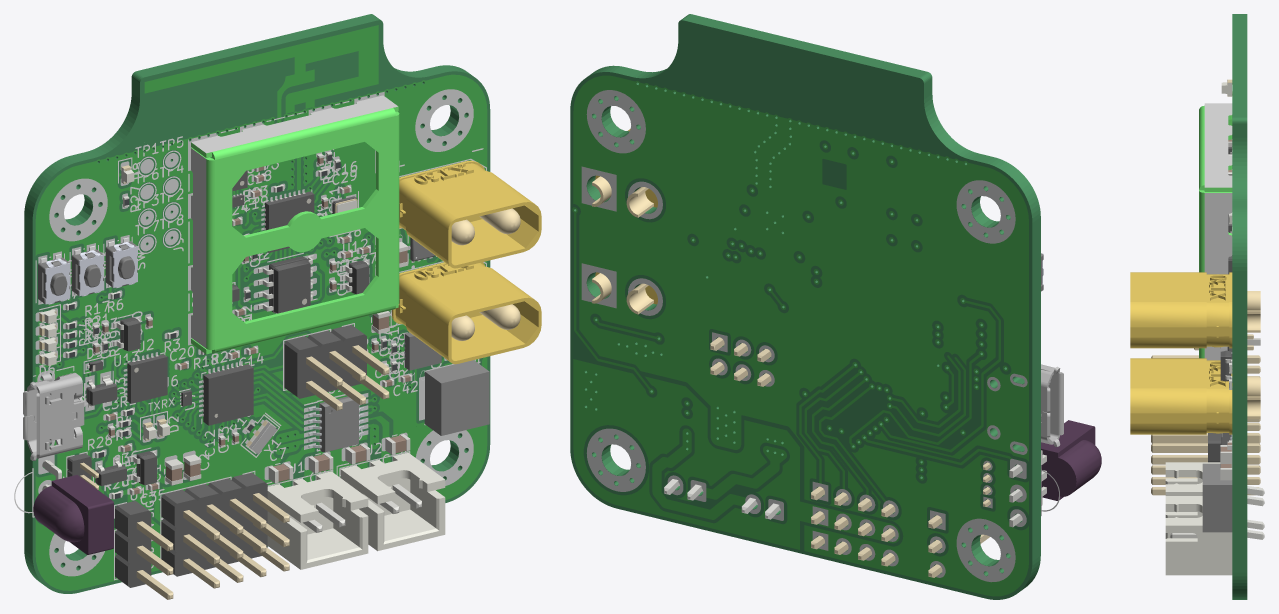
Rendered from boardCTA.glb.
The picture shows the model from 3 angles, left to right: view 1: azimuth 30°, elevation 25°; view 2: azimuth 150°, elevation 25°; view 3: azimuth 270°, elevation 25°; orthographic projection. The views are drawn at different scales.
Parts seen in each view (by area): view 1: FACE_1.001; view 2: FACE_1.001; view 3: FACE_1.001.
Boxes of the visible parts, x1,y1,x2,y2 form: FACE_1.001: (14,14,541,599); FACE_1.001: (570,14,1101,599); FACE_1.001: (1130,14,1264,599).
Size of the model in its own units: 52.05 by 52.15 by 14.1.
